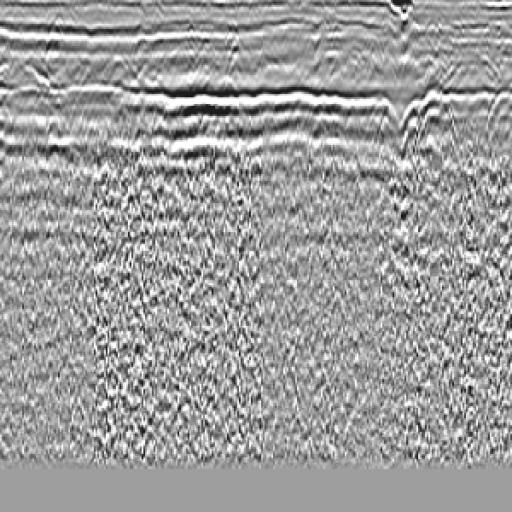metalic: (360, 65, 469, 303)
